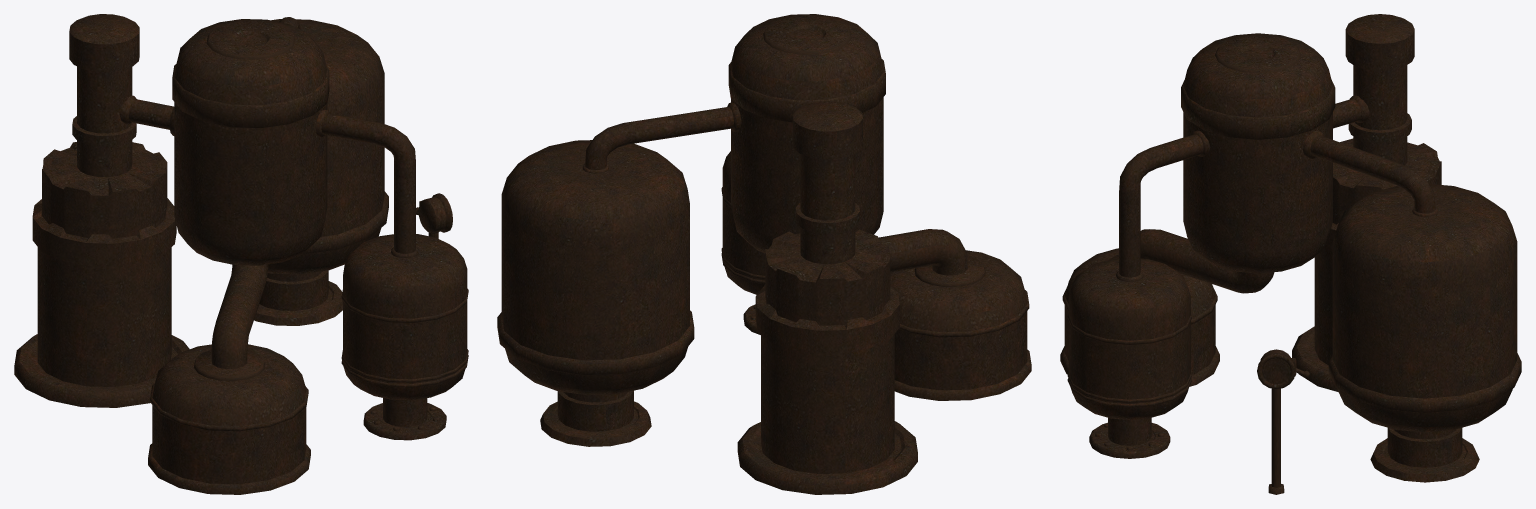
Rendered from tank_system_mx_1.obj.
The picture shows the model from 3 angles, left to right: view 1: azimuth 30°, elevation 25°; view 2: azimuth 150°, elevation 25°; view 3: azimuth 270°, elevation 25°; orthographic projection. The views are drawn at different scales.
Parts seen in each view (by area): view 1: tank_system_mx_1; view 2: tank_system_mx_1; view 3: tank_system_mx_1.
Part boxes in pixels (left/top/right/bottom): tank_system_mx_1: left=14, top=14, right=468, bottom=494; tank_system_mx_1: left=497, top=14, right=1031, bottom=494; tank_system_mx_1: left=1060, top=14, right=1521, bottom=494.
Bounding box in the file's own units: 2.61 × 2.39 × 2.87.
